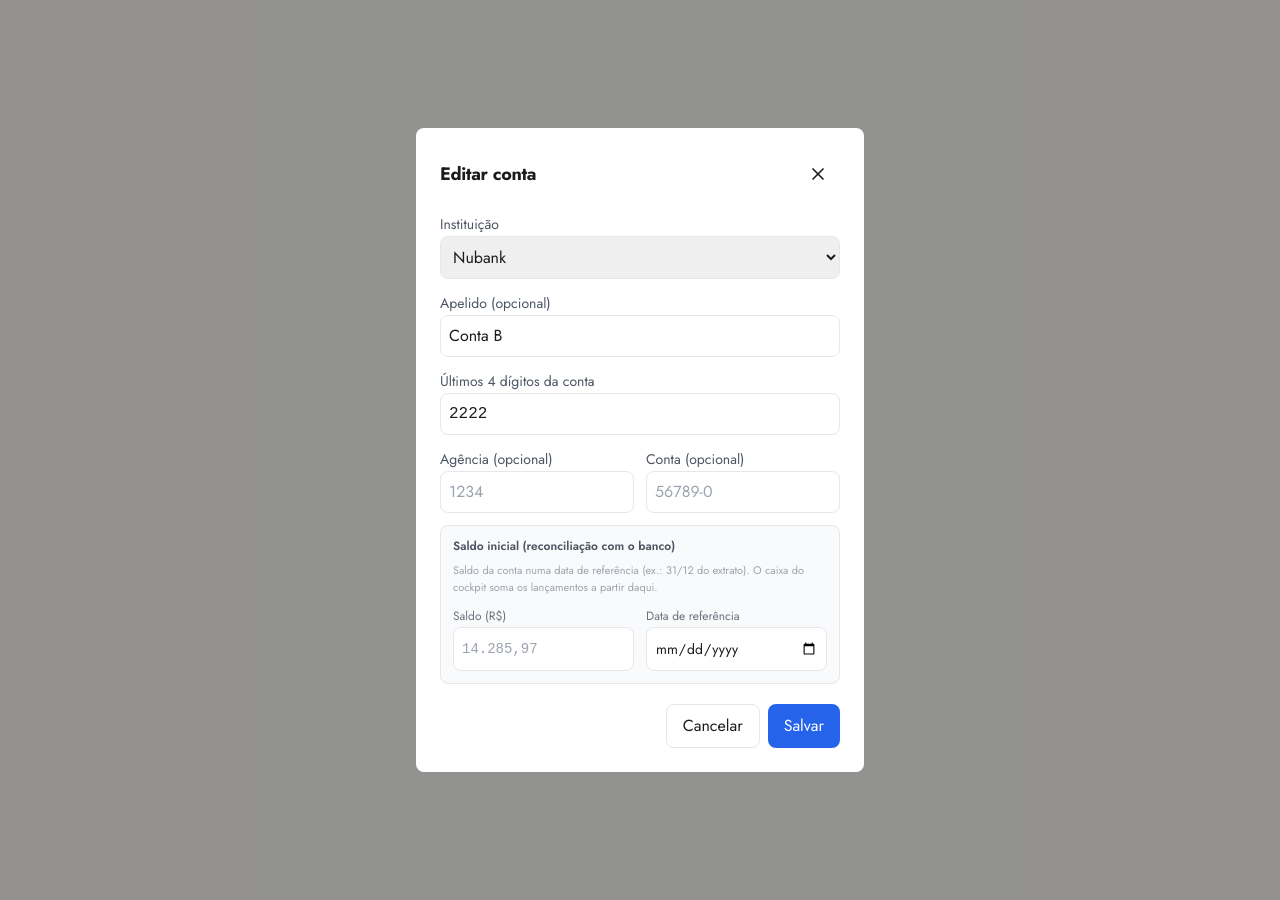
it: BankAccountFormModal › mantém o formulário aberto e mostra erro quando o PATCH falha
The width and height of the screenshot is (1280, 900).
Click the button "Salvar". click: (804, 726)
box: [768,704,840,748]
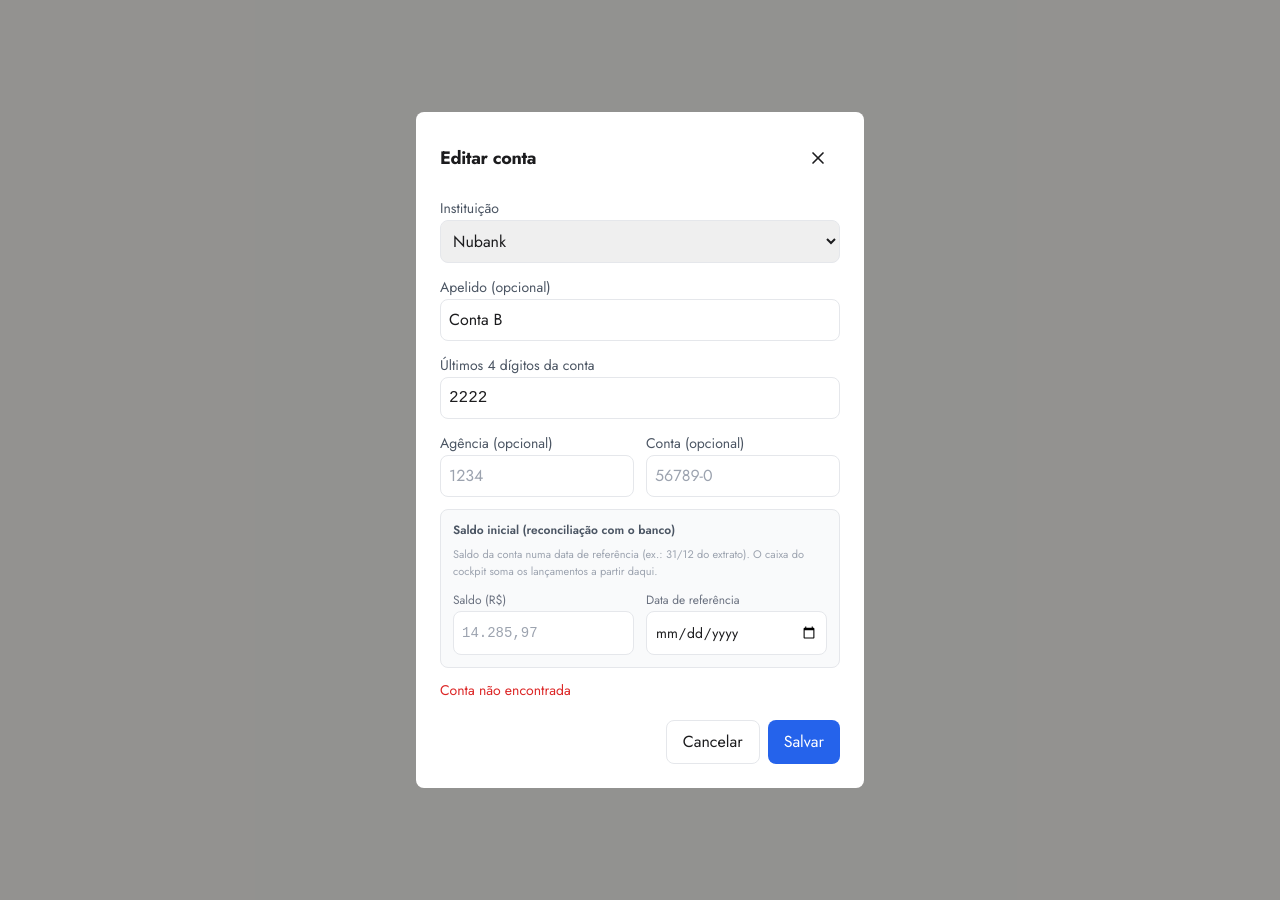
expect the heading "Editar conta" is shown: met, box [440,144,536,172]
expect the text "Conta não encontrada" is shown: met, box [440,680,571,700]
